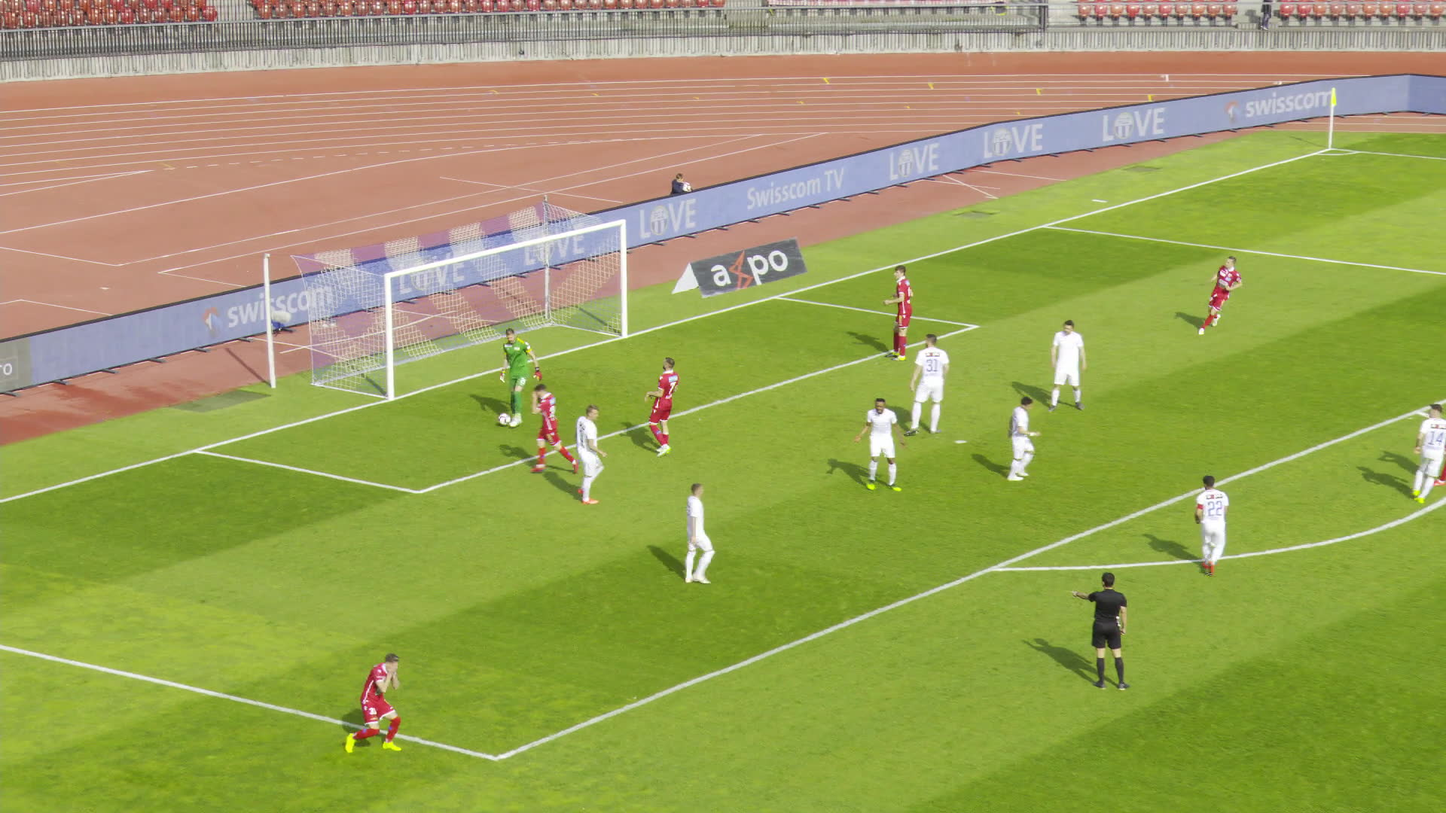ball: (496, 413, 511, 425)
player: (342, 651, 401, 754), (853, 397, 899, 490), (496, 329, 539, 424), (906, 333, 945, 437), (1042, 319, 1085, 412), (1192, 473, 1229, 579), (530, 384, 575, 470), (642, 357, 680, 457), (1195, 254, 1243, 333), (1407, 404, 1445, 499), (677, 481, 712, 583), (570, 405, 606, 503), (996, 395, 1033, 480), (880, 264, 912, 360)
referee: (1065, 570, 1126, 691)
